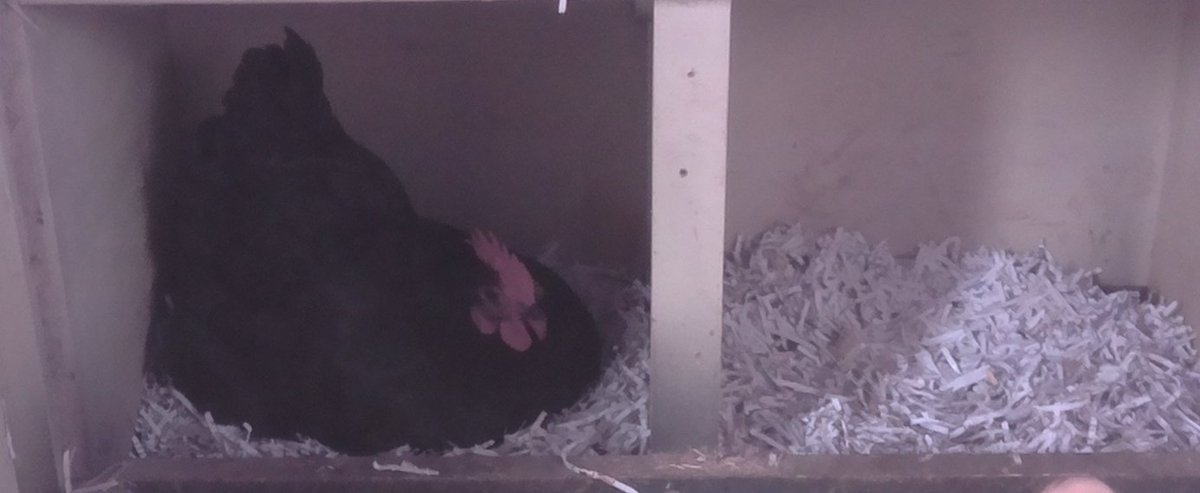hen: (138, 68, 617, 451)
